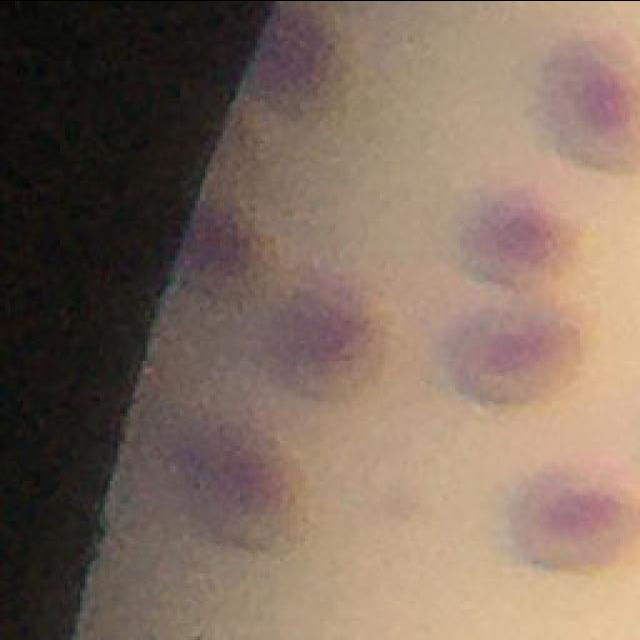RBC: (249, 256, 402, 404), (162, 414, 315, 556), (429, 296, 590, 408), (495, 456, 640, 575), (538, 26, 640, 176), (443, 188, 580, 290)
